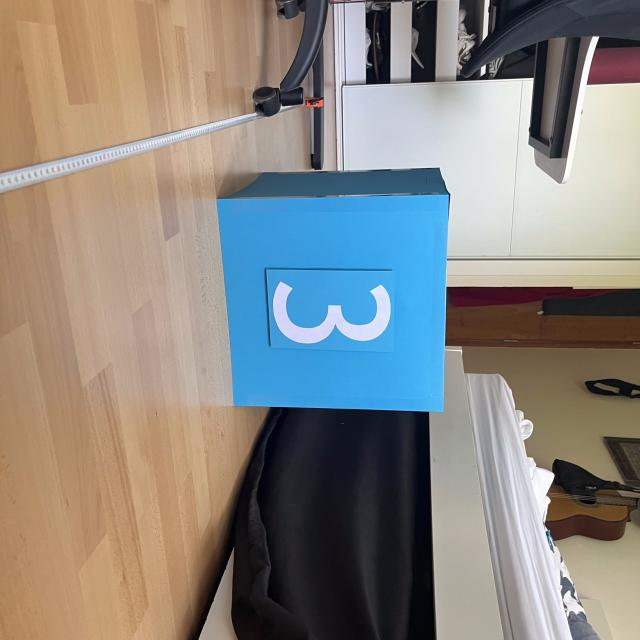box: (211, 164, 453, 414)
